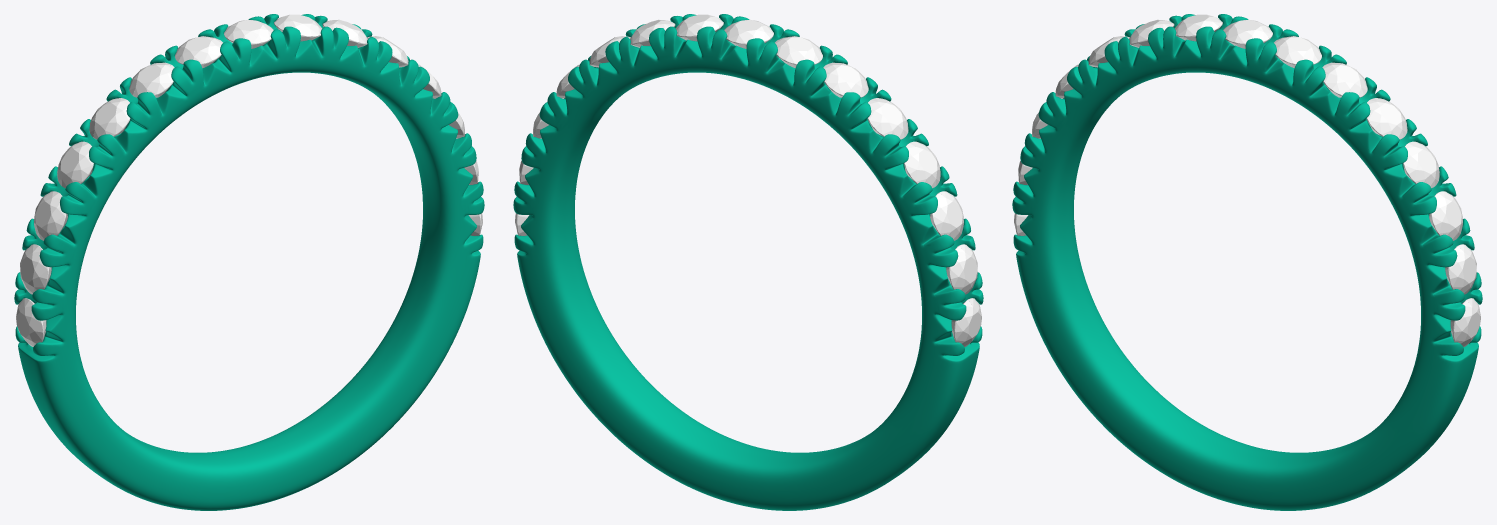
Rendered from BE2M3420HLC_RENDER.glb.
The picture shows the model from 3 angles, left to right: view 1: azimuth 30°, elevation 25°; view 2: azimuth 150°, elevation 25°; view 3: azimuth 330°, elevation 25°; orthographic projection.
Parts seen in each view (by area): view 1: Metal03, Diamond_Round_Gem_BD.004, Diamond_Round_Gem_BD.003, Diamond_Round_Gem_BD.002, Diamond_Round_Gem_BD.005, Diamond_Round_Gem_BD.001, Diamond_Round_Gem_BD.006, Diamond_Round_Gem_BD, Diamond_Round_Gem_BD.007, Diamond_Round_Gem_BD.008, Diamond_Round_Gem_BD.009; view 2: Metal03, Diamond_Round_Gem_BD.004, Diamond_Round_Gem_BD.003, Diamond_Round_Gem_BD.002, Diamond_Round_Gem_BD.005, Diamond_Round_Gem_BD.001, Diamond_Round_Gem_BD.006, Diamond_Round_Gem_BD, Diamond_Round_Gem_BD.007, Diamond_Round_Gem_BD.008, Diamond_Round_Gem_BD.009; view 3: Metal03, Diamond_Round_Gem_BD.010, Diamond_Round_Gem_BD.011, Diamond_Round_Gem_BD.012, Diamond_Round_Gem_BD.009, Diamond_Round_Gem_BD.013, Diamond_Round_Gem_BD.008, Diamond_Round_Gem_BD.014, Diamond_Round_Gem_BD.007, Diamond_Round_Gem_BD.006, Diamond_Round_Gem_BD.005.
Part boxes in pixels (x1=…): Metal03: x1=14, y1=14, x2=484, y2=510; Diamond_Round_Gem_BD.004: x1=89, y1=98, x2=130, y2=139; Diamond_Round_Gem_BD.003: x1=57, y1=141, x2=93, y2=188; Diamond_Round_Gem_BD.002: x1=34, y1=191, x2=67, y2=240; Diamond_Round_Gem_BD.005: x1=129, y1=62, x2=174, y2=97; Diamond_Round_Gem_BD.001: x1=20, y1=244, x2=51, y2=294; Diamond_Round_Gem_BD.006: x1=175, y1=36, x2=222, y2=68; Diamond_Round_Gem_BD: x1=16, y1=298, x2=46, y2=346; Diamond_Round_Gem_BD.007: x1=224, y1=20, x2=273, y2=48; Diamond_Round_Gem_BD.008: x1=274, y1=14, x2=322, y2=41; Diamond_Round_Gem_BD.009: x1=322, y1=19, x2=367, y2=47; Metal03: x1=513, y1=14, x2=983, y2=510; Diamond_Round_Gem_BD.004: x1=867, y1=98, x2=908, y2=139; Diamond_Round_Gem_BD.003: x1=904, y1=141, x2=940, y2=188; Diamond_Round_Gem_BD.002: x1=930, y1=191, x2=963, y2=240; Diamond_Round_Gem_BD.005: x1=823, y1=62, x2=868, y2=97; Diamond_Round_Gem_BD.001: x1=946, y1=244, x2=977, y2=294; Diamond_Round_Gem_BD.006: x1=775, y1=36, x2=822, y2=68; Diamond_Round_Gem_BD: x1=951, y1=298, x2=981, y2=346; Diamond_Round_Gem_BD.007: x1=724, y1=20, x2=773, y2=48; Diamond_Round_Gem_BD.008: x1=675, y1=14, x2=723, y2=41; Diamond_Round_Gem_BD.009: x1=630, y1=19, x2=675, y2=47; Metal03: x1=1012, y1=14, x2=1482, y2=510; Diamond_Round_Gem_BD.010: x1=1366, y1=98, x2=1407, y2=139; Diamond_Round_Gem_BD.011: x1=1403, y1=141, x2=1439, y2=188; Diamond_Round_Gem_BD.012: x1=1429, y1=191, x2=1462, y2=240; Diamond_Round_Gem_BD.009: x1=1322, y1=62, x2=1367, y2=97; Diamond_Round_Gem_BD.013: x1=1445, y1=244, x2=1476, y2=294; Diamond_Round_Gem_BD.008: x1=1274, y1=36, x2=1321, y2=68; Diamond_Round_Gem_BD.014: x1=1450, y1=298, x2=1480, y2=346; Diamond_Round_Gem_BD.007: x1=1223, y1=20, x2=1272, y2=48; Diamond_Round_Gem_BD.006: x1=1175, y1=14, x2=1222, y2=41; Diamond_Round_Gem_BD.005: x1=1129, y1=19, x2=1174, y2=47.
Size of the model in its own units: 20.6 by 20.54 by 2.29.
